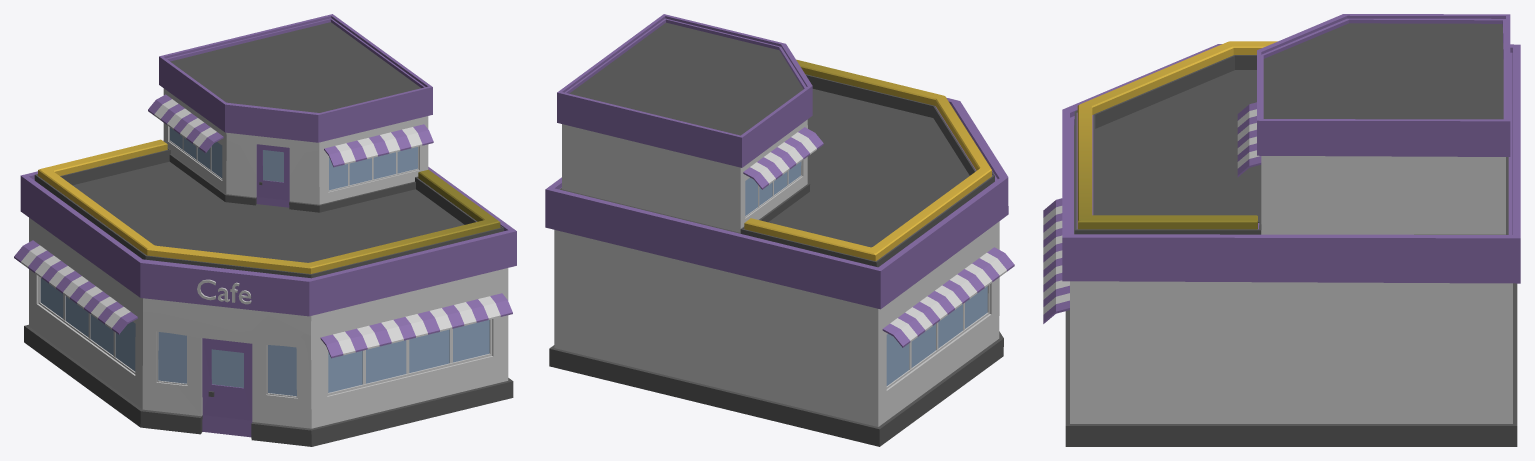
Rendered from Cafe_01.fbx.
The picture shows the model from 3 angles, left to right: view 1: azimuth 30°, elevation 25°; view 2: azimuth 150°, elevation 25°; view 3: azimuth 270°, elevation 25°; orthographic projection. The views are drawn at different scales.
Visible parts, largest first — view 1: Cafe_01; view 2: Cafe_01; view 3: Cafe_01.
Boxes of the visible parts, left/top/right/bottom form: Cafe_01: left=14, top=14, right=516, bottom=446; Cafe_01: left=545, top=14, right=1014, bottom=446; Cafe_01: left=1043, top=14, right=1520, bottom=446.
Bounding box in the file's own units: 736 × 549 × 735.
